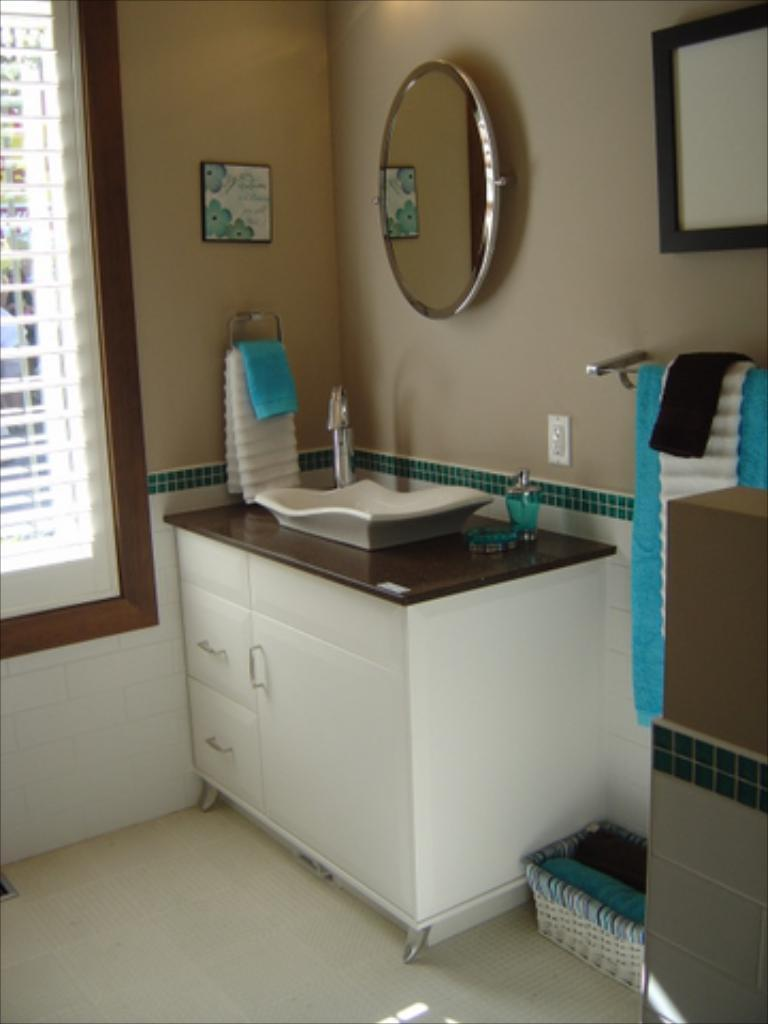cabinet_door: (254, 630, 392, 819), (193, 702, 268, 790), (184, 608, 256, 688)
handle: (245, 647, 271, 697), (198, 724, 234, 760), (192, 638, 228, 666)
